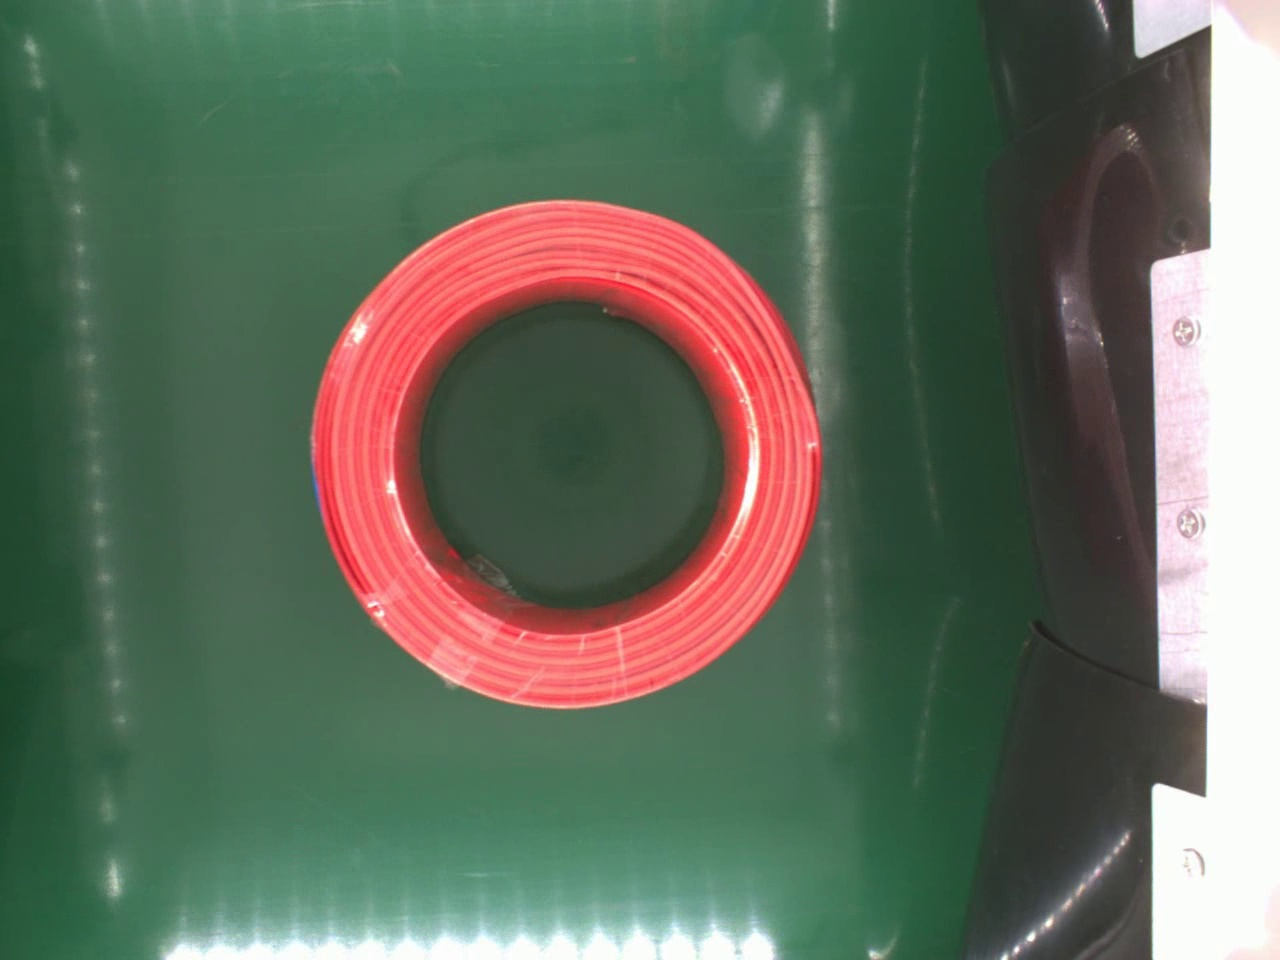red: (302, 198, 834, 719)
